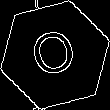O_S: (27, 25, 83, 85)
